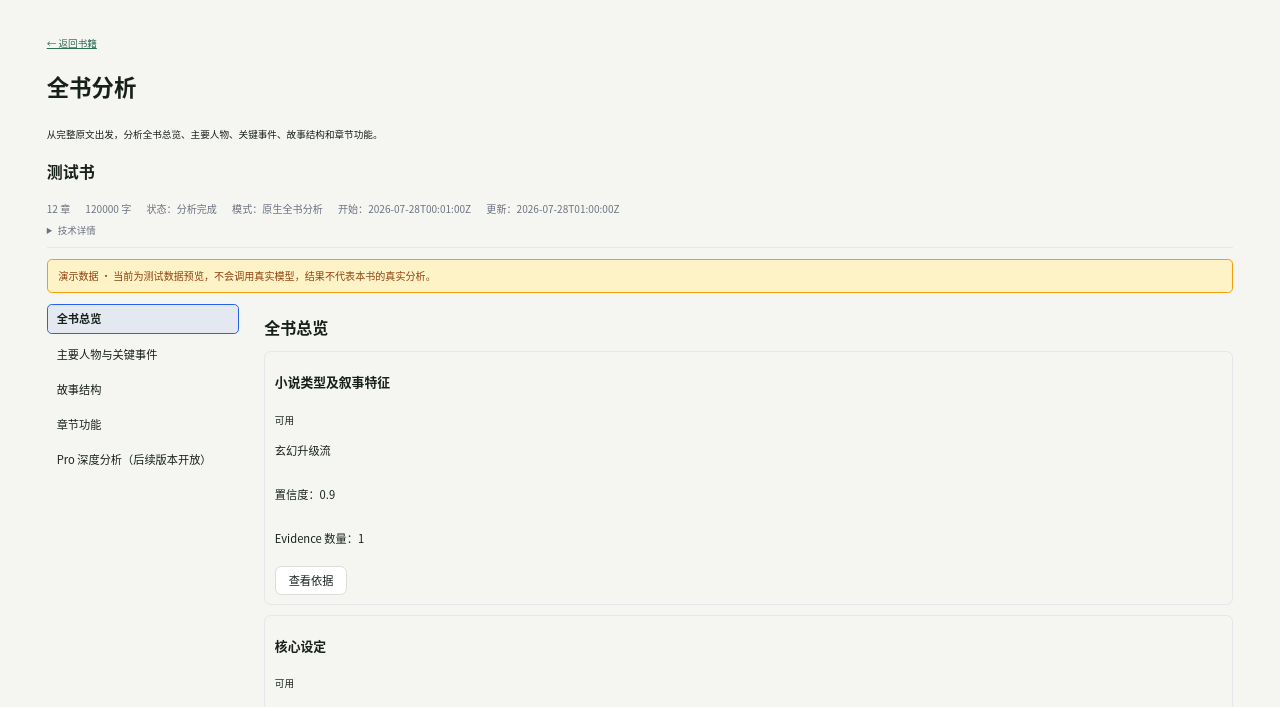
Scenario: WholeBookFreeProduct (Wave D §18.2) › does not fuzzy-highlight when offsets mismatch quote
What coordinates should you click on to do the following:
click the button with test id "whole-book-free-claim-evidence-genre_and_narrative_features"
I would click on:
 (311, 580)
Its box is [275,566,347,595].
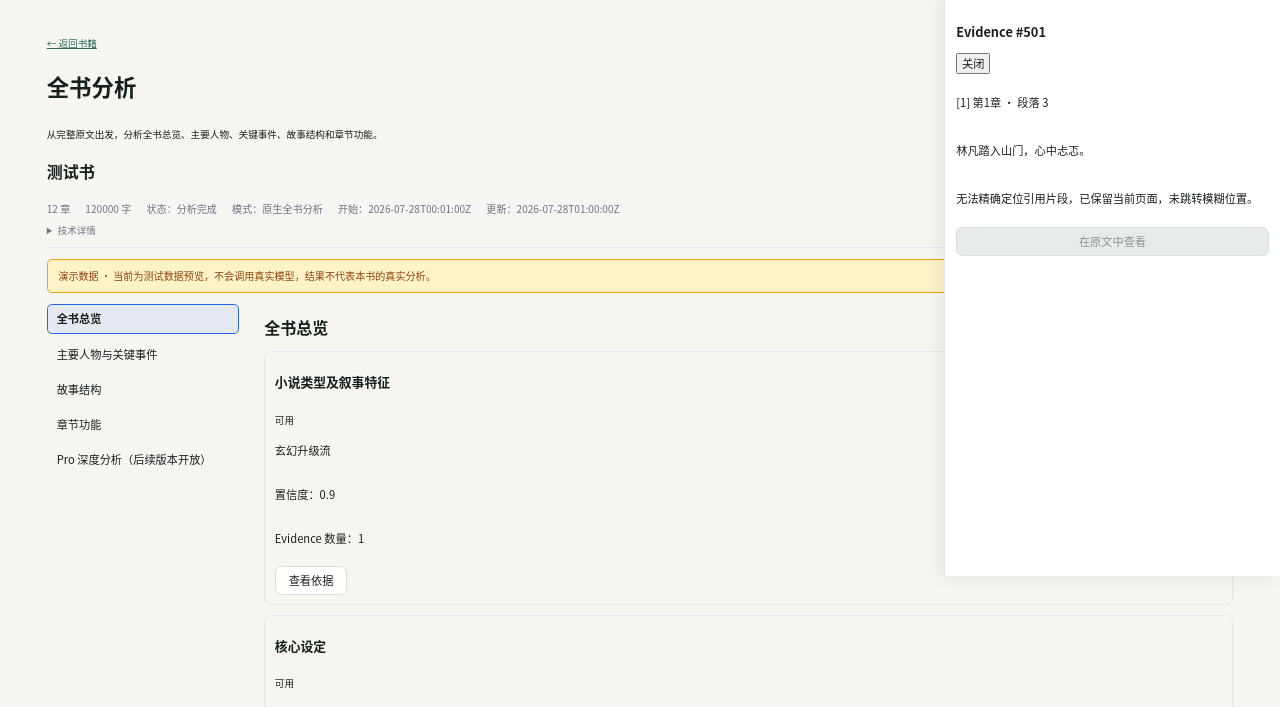
Result: the text "无法精确定位引用片段，已保留当前页面，未跳转模糊位置。" is shown at [956,190,1269,208]
Result: the button with test id "whole-book-free-open-in-reader" is disabled at [956,227,1269,256]
